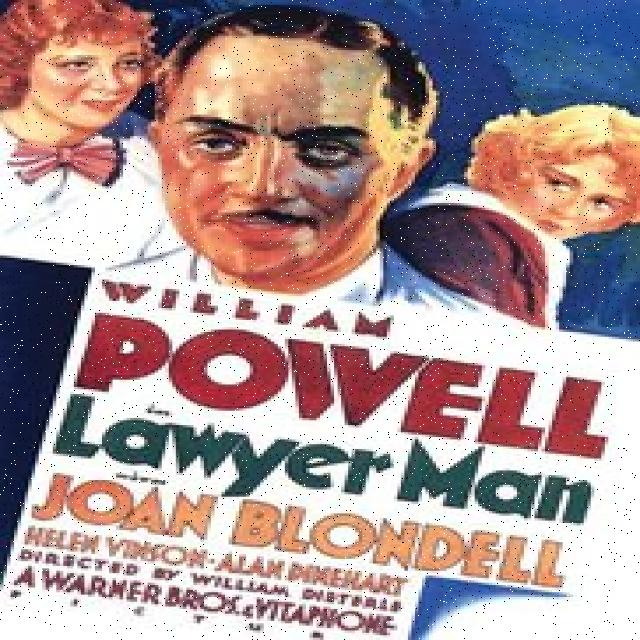movie-judul: (88, 283, 594, 587)
picture: (8, 3, 640, 269)
